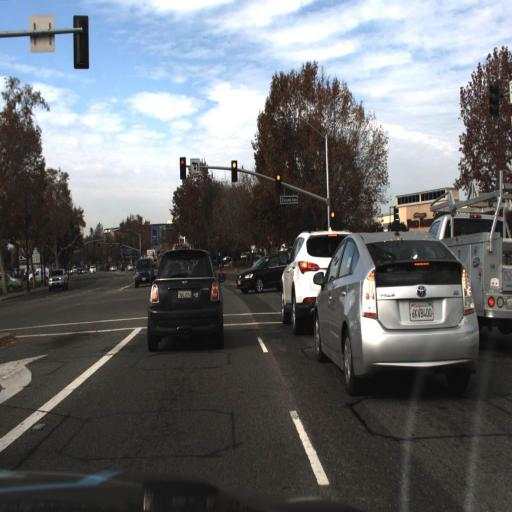car: (312, 227, 482, 392), (428, 180, 511, 324), (274, 226, 352, 339), (143, 245, 223, 353), (145, 242, 227, 343), (278, 230, 336, 333), (234, 247, 292, 292), (47, 265, 69, 295), (133, 257, 154, 288), (135, 256, 153, 289), (48, 268, 70, 290)
trafficLight: (328, 203, 336, 225)
trafficLight-Red: (229, 155, 239, 188), (273, 170, 284, 200), (274, 169, 284, 199), (229, 156, 238, 187), (327, 206, 336, 226)
trafficLight-RedLeft: (178, 155, 188, 185), (178, 154, 188, 184)
